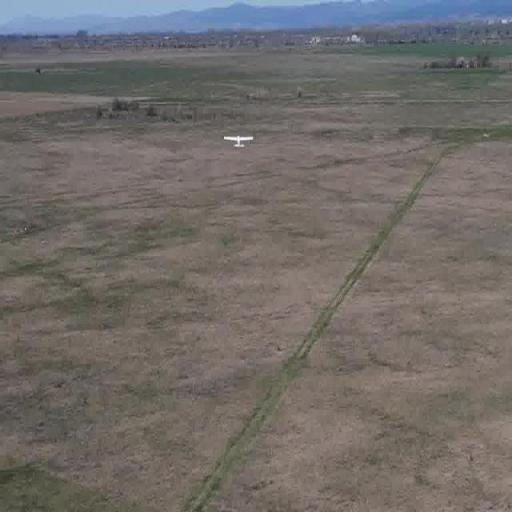uav: (222, 129, 256, 154)
